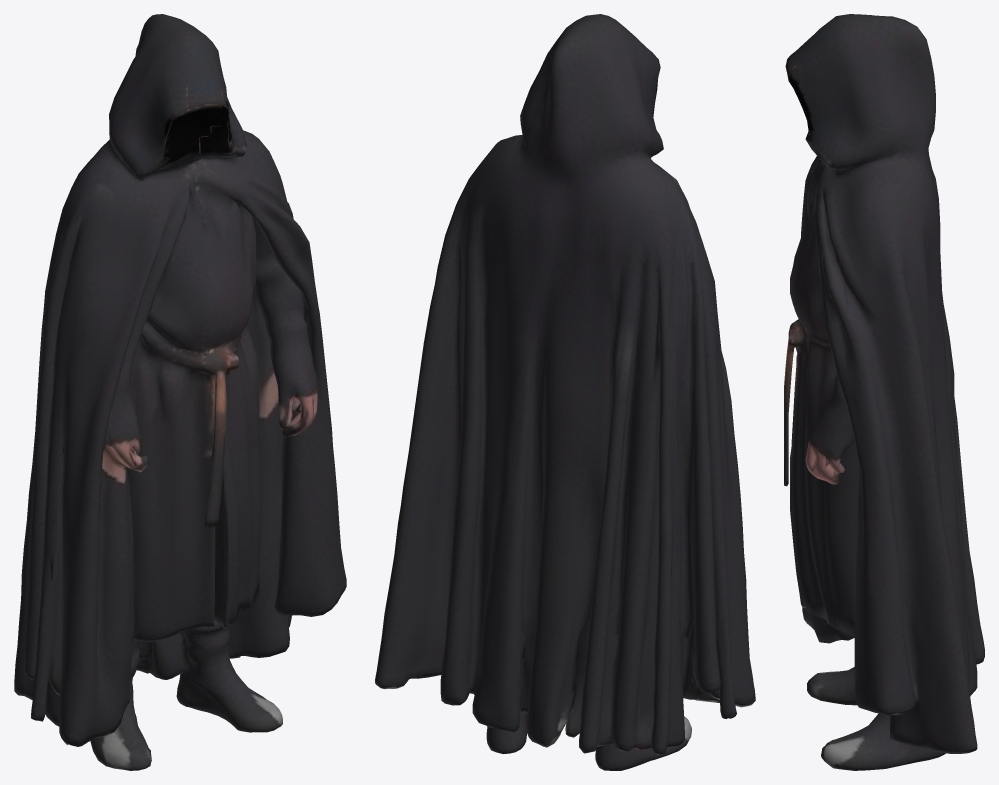
File: capa-encaputxada.glb
3 renders of one model, left to right at view 1: azimuth 30°, elevation 25°; view 2: azimuth 150°, elevation 25°; view 3: azimuth 270°, elevation 25°, orthographic.
Parts seen in each view (by area): view 1: tripo_node_d9deeca4-636f-4e0a-a76f-b419446fff9f; view 2: tripo_node_d9deeca4-636f-4e0a-a76f-b419446fff9f; view 3: tripo_node_d9deeca4-636f-4e0a-a76f-b419446fff9f.
Boxes of the visible parts, bbox=[...] form: tripo_node_d9deeca4-636f-4e0a-a76f-b419446fff9f: bbox=[14, 14, 346, 770]; tripo_node_d9deeca4-636f-4e0a-a76f-b419446fff9f: bbox=[375, 14, 755, 770]; tripo_node_d9deeca4-636f-4e0a-a76f-b419446fff9f: bbox=[784, 14, 984, 770].
Size of the model in its own units: 0.4746 by 0.998 by 0.2559.
Materials: 1 (1 with a texture image).
